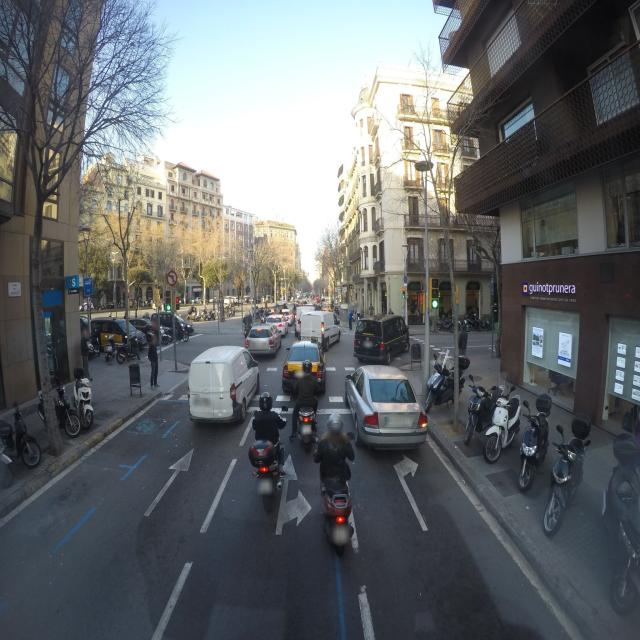bike: (542, 407, 634, 541), (600, 403, 640, 637), (517, 372, 592, 496), (311, 416, 361, 564), (482, 364, 554, 466), (248, 406, 290, 522), (462, 365, 520, 447), (0, 393, 42, 471), (291, 384, 326, 459), (427, 352, 469, 414), (50, 384, 82, 438), (72, 373, 98, 429), (115, 337, 141, 361), (103, 332, 116, 360), (186, 308, 196, 322), (206, 309, 217, 320), (196, 311, 206, 321), (225, 306, 232, 318)
car: (342, 365, 428, 454), (187, 344, 261, 428), (352, 314, 410, 367), (281, 340, 327, 398), (90, 317, 148, 354), (296, 308, 342, 350), (147, 311, 195, 341), (126, 316, 171, 346), (246, 324, 280, 359), (266, 314, 288, 337), (281, 310, 293, 326)
